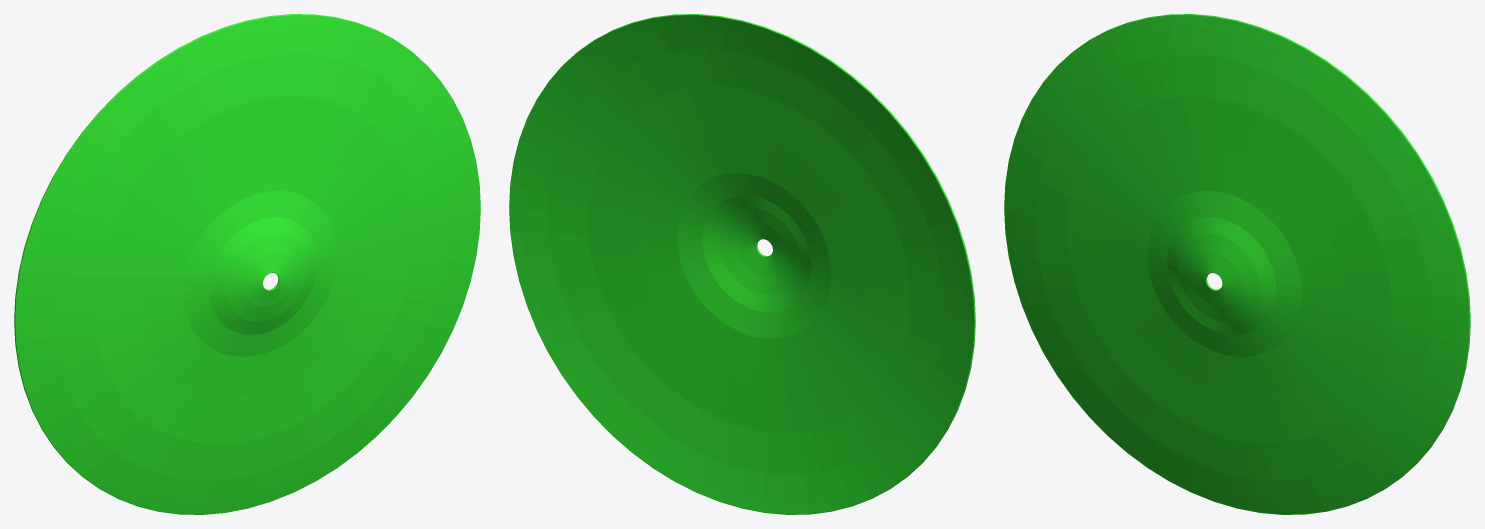
Rendered from Cymbal.obj.
The picture shows the model from 3 angles, left to right: view 1: azimuth 30°, elevation 25°; view 2: azimuth 150°, elevation 25°; view 3: azimuth 330°, elevation 25°; orthographic projection.
Parts seen in each view (by area): view 1: Cymbal; view 2: Cymbal; view 3: Cymbal.
Boxes of the visible parts, bbox=[...] form: Cymbal: bbox=[14, 14, 480, 514]; Cymbal: bbox=[509, 14, 975, 514]; Cymbal: bbox=[1004, 14, 1470, 514].
Size of the model in its own units: 1 by 1 by 0.0899.
